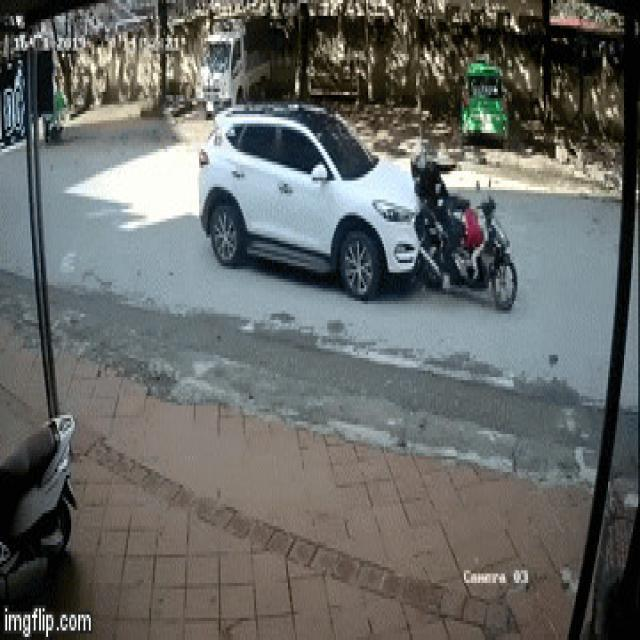multiple_accident: (192, 88, 521, 321)
